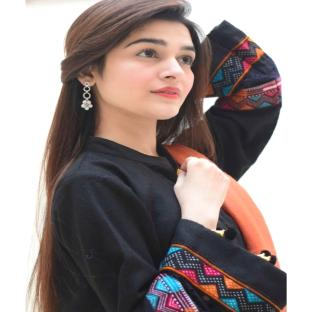Human: (33, 0, 286, 312)
